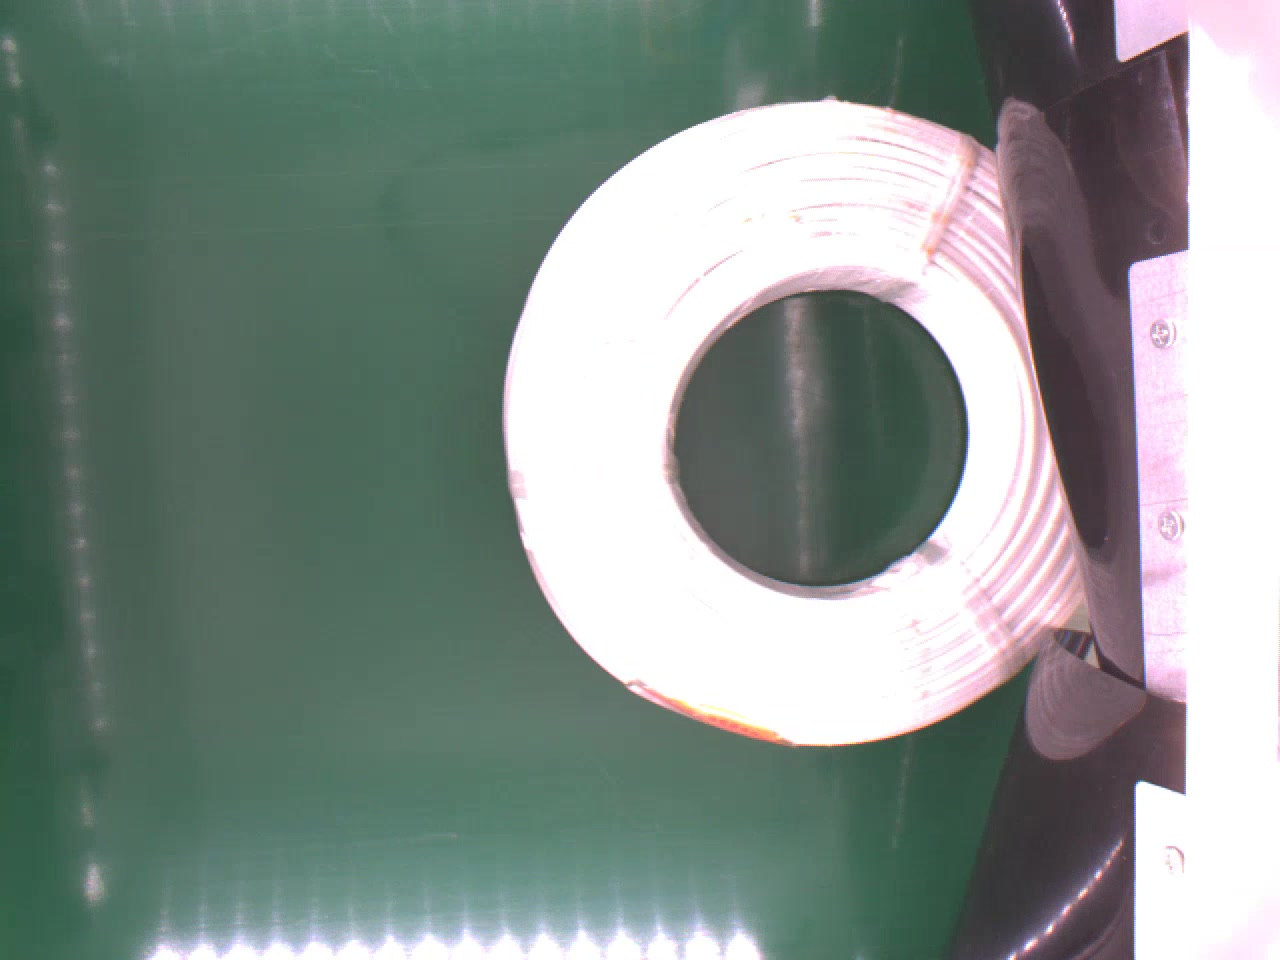white: (501, 96, 1099, 760)
